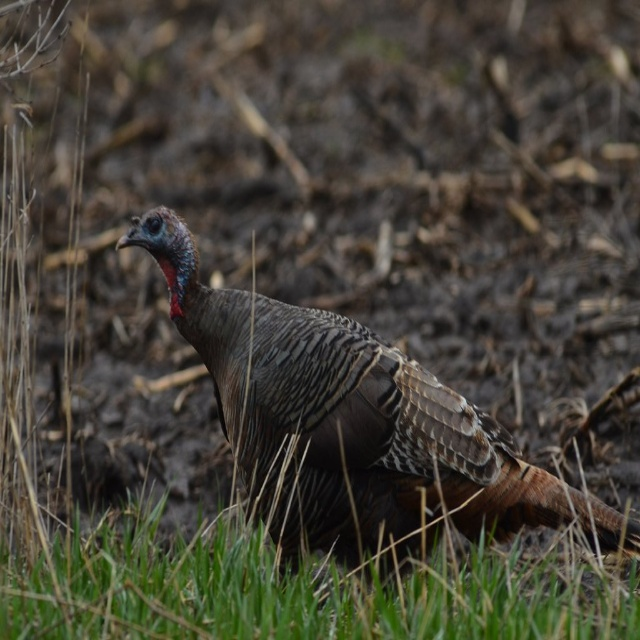Turkey: (115, 204, 640, 612)
